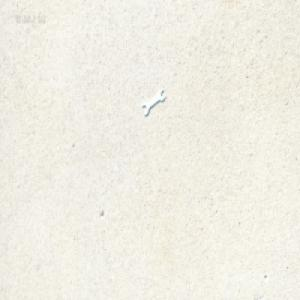Wrench: (141, 86, 165, 116)
